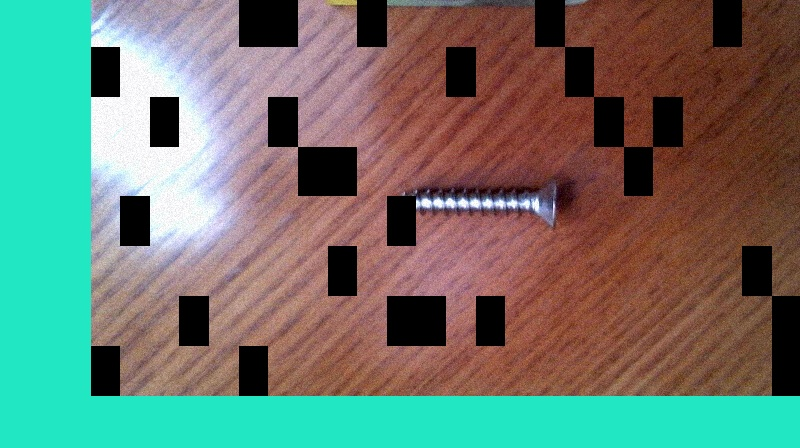S001: (380, 171, 563, 230)
